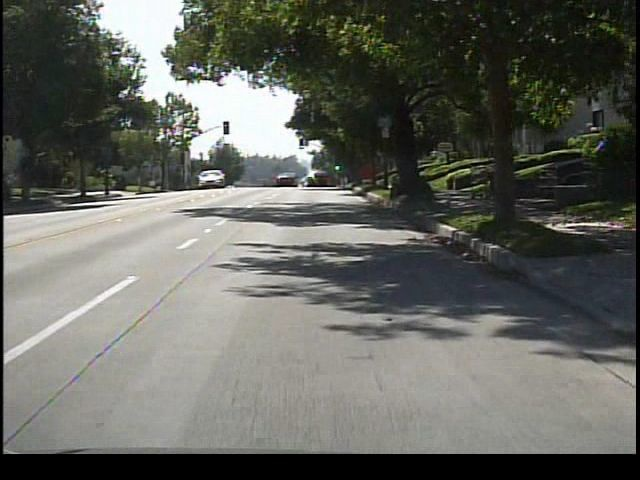person: (492, 150, 519, 199)
